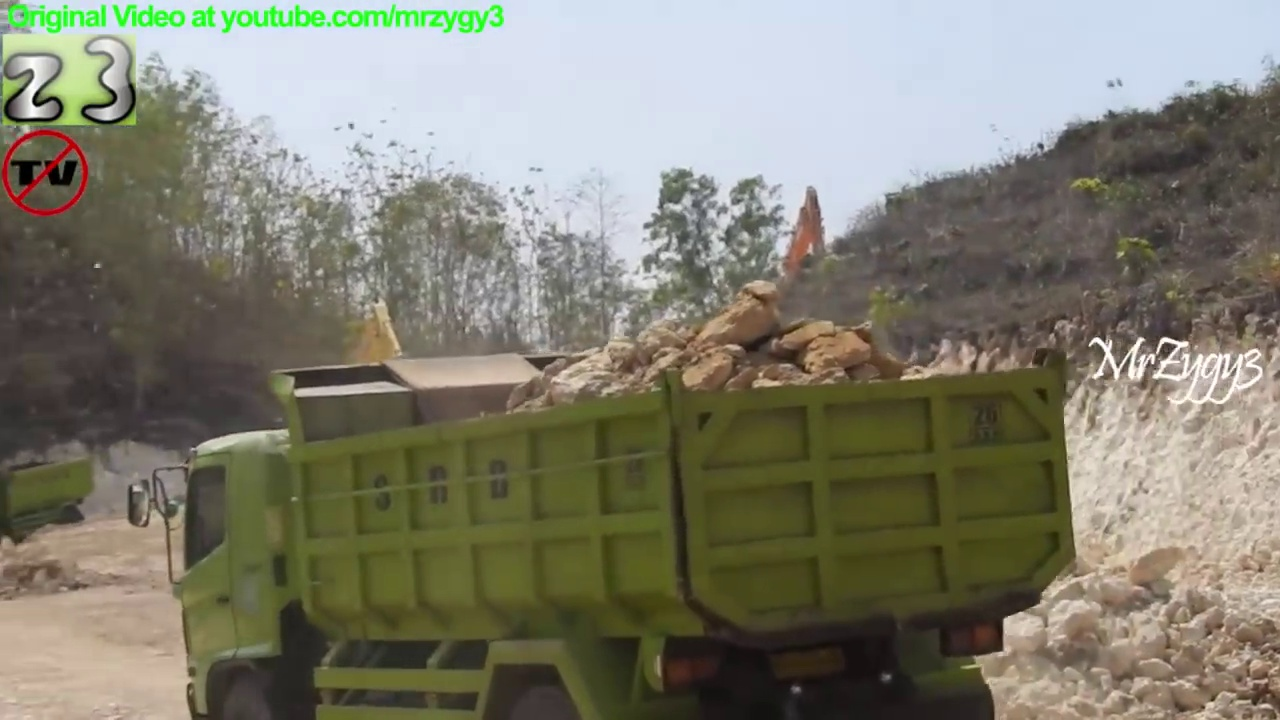excavator: (757, 183, 855, 340)
truck: (123, 347, 1083, 720), (1, 451, 100, 547)
